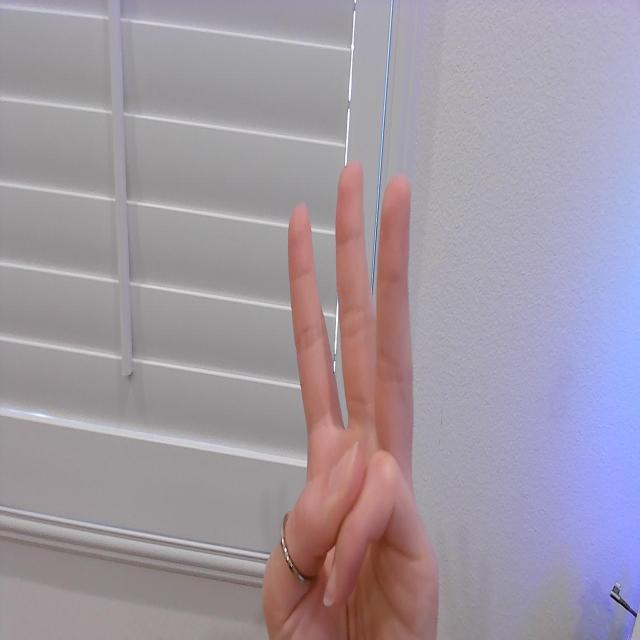W: (258, 153, 444, 640)
